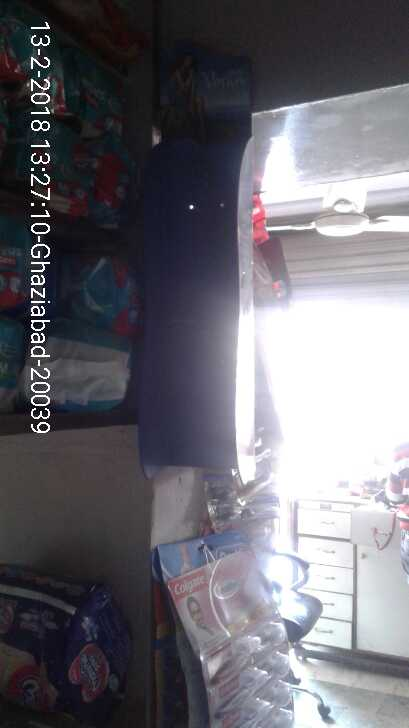reject: (97, 296, 165, 393)
